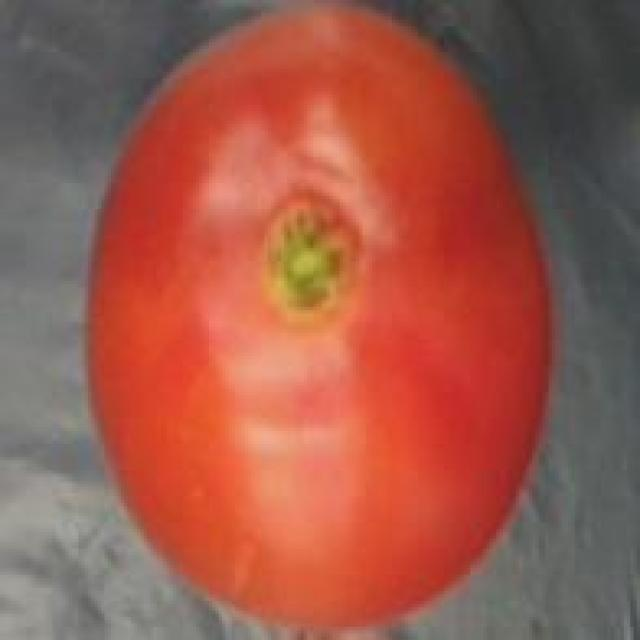ripe tomato: (75, 0, 565, 640)
